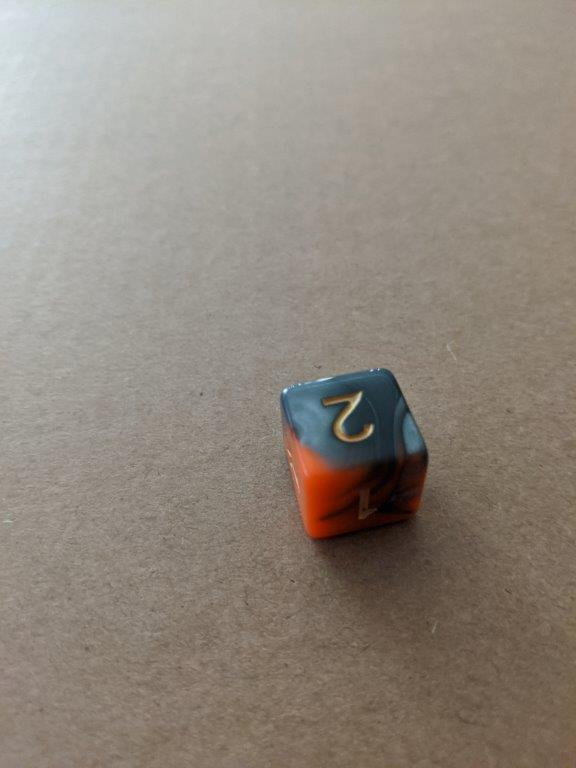d6-2: (282, 365, 431, 544)
